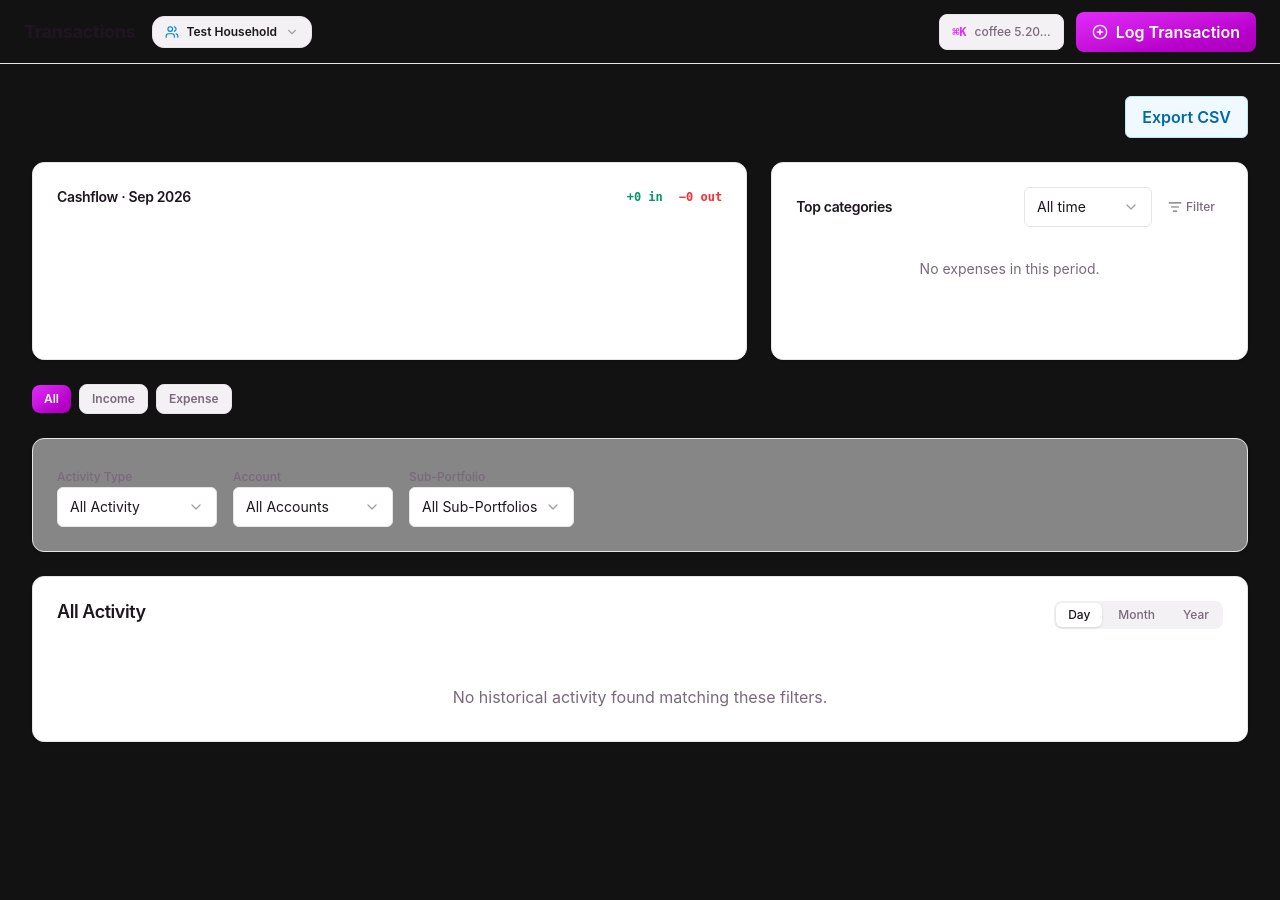
Scenario: Transactions page › opens the log/transfer dialog with both tabs wired up
Click the button "Log Transaction".
click(1166, 32)  # box x1=1076 y1=12 x2=1256 y2=52
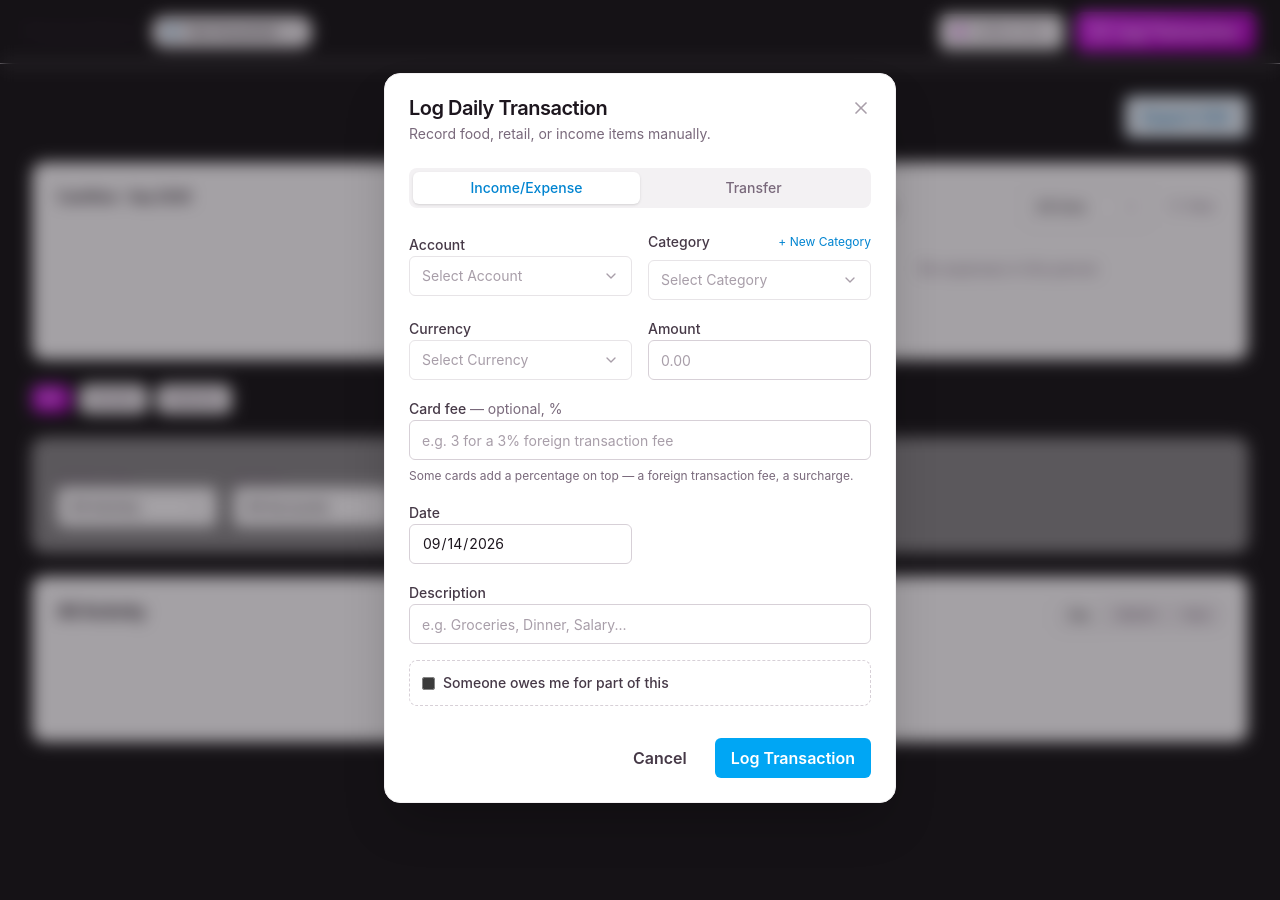
Result: the heading "Log Daily Transaction" is shown at x1=409 y1=96 x2=607 y2=120
Click the button "Transfer".
click(754, 188)  # box x1=640 y1=172 x2=867 y2=204
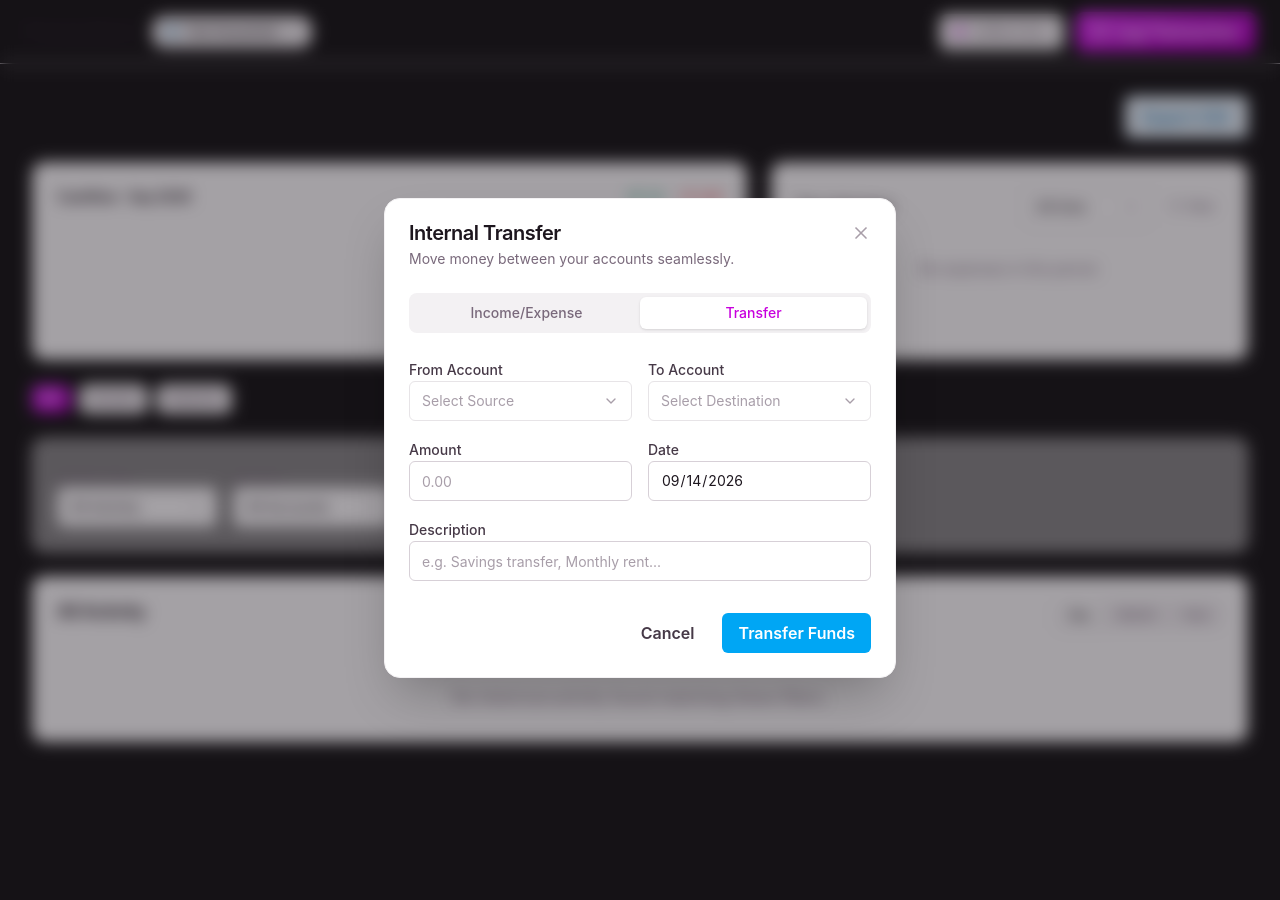
Result: the text "Internal Transfer" is shown at x1=409 y1=221 x2=561 y2=245
